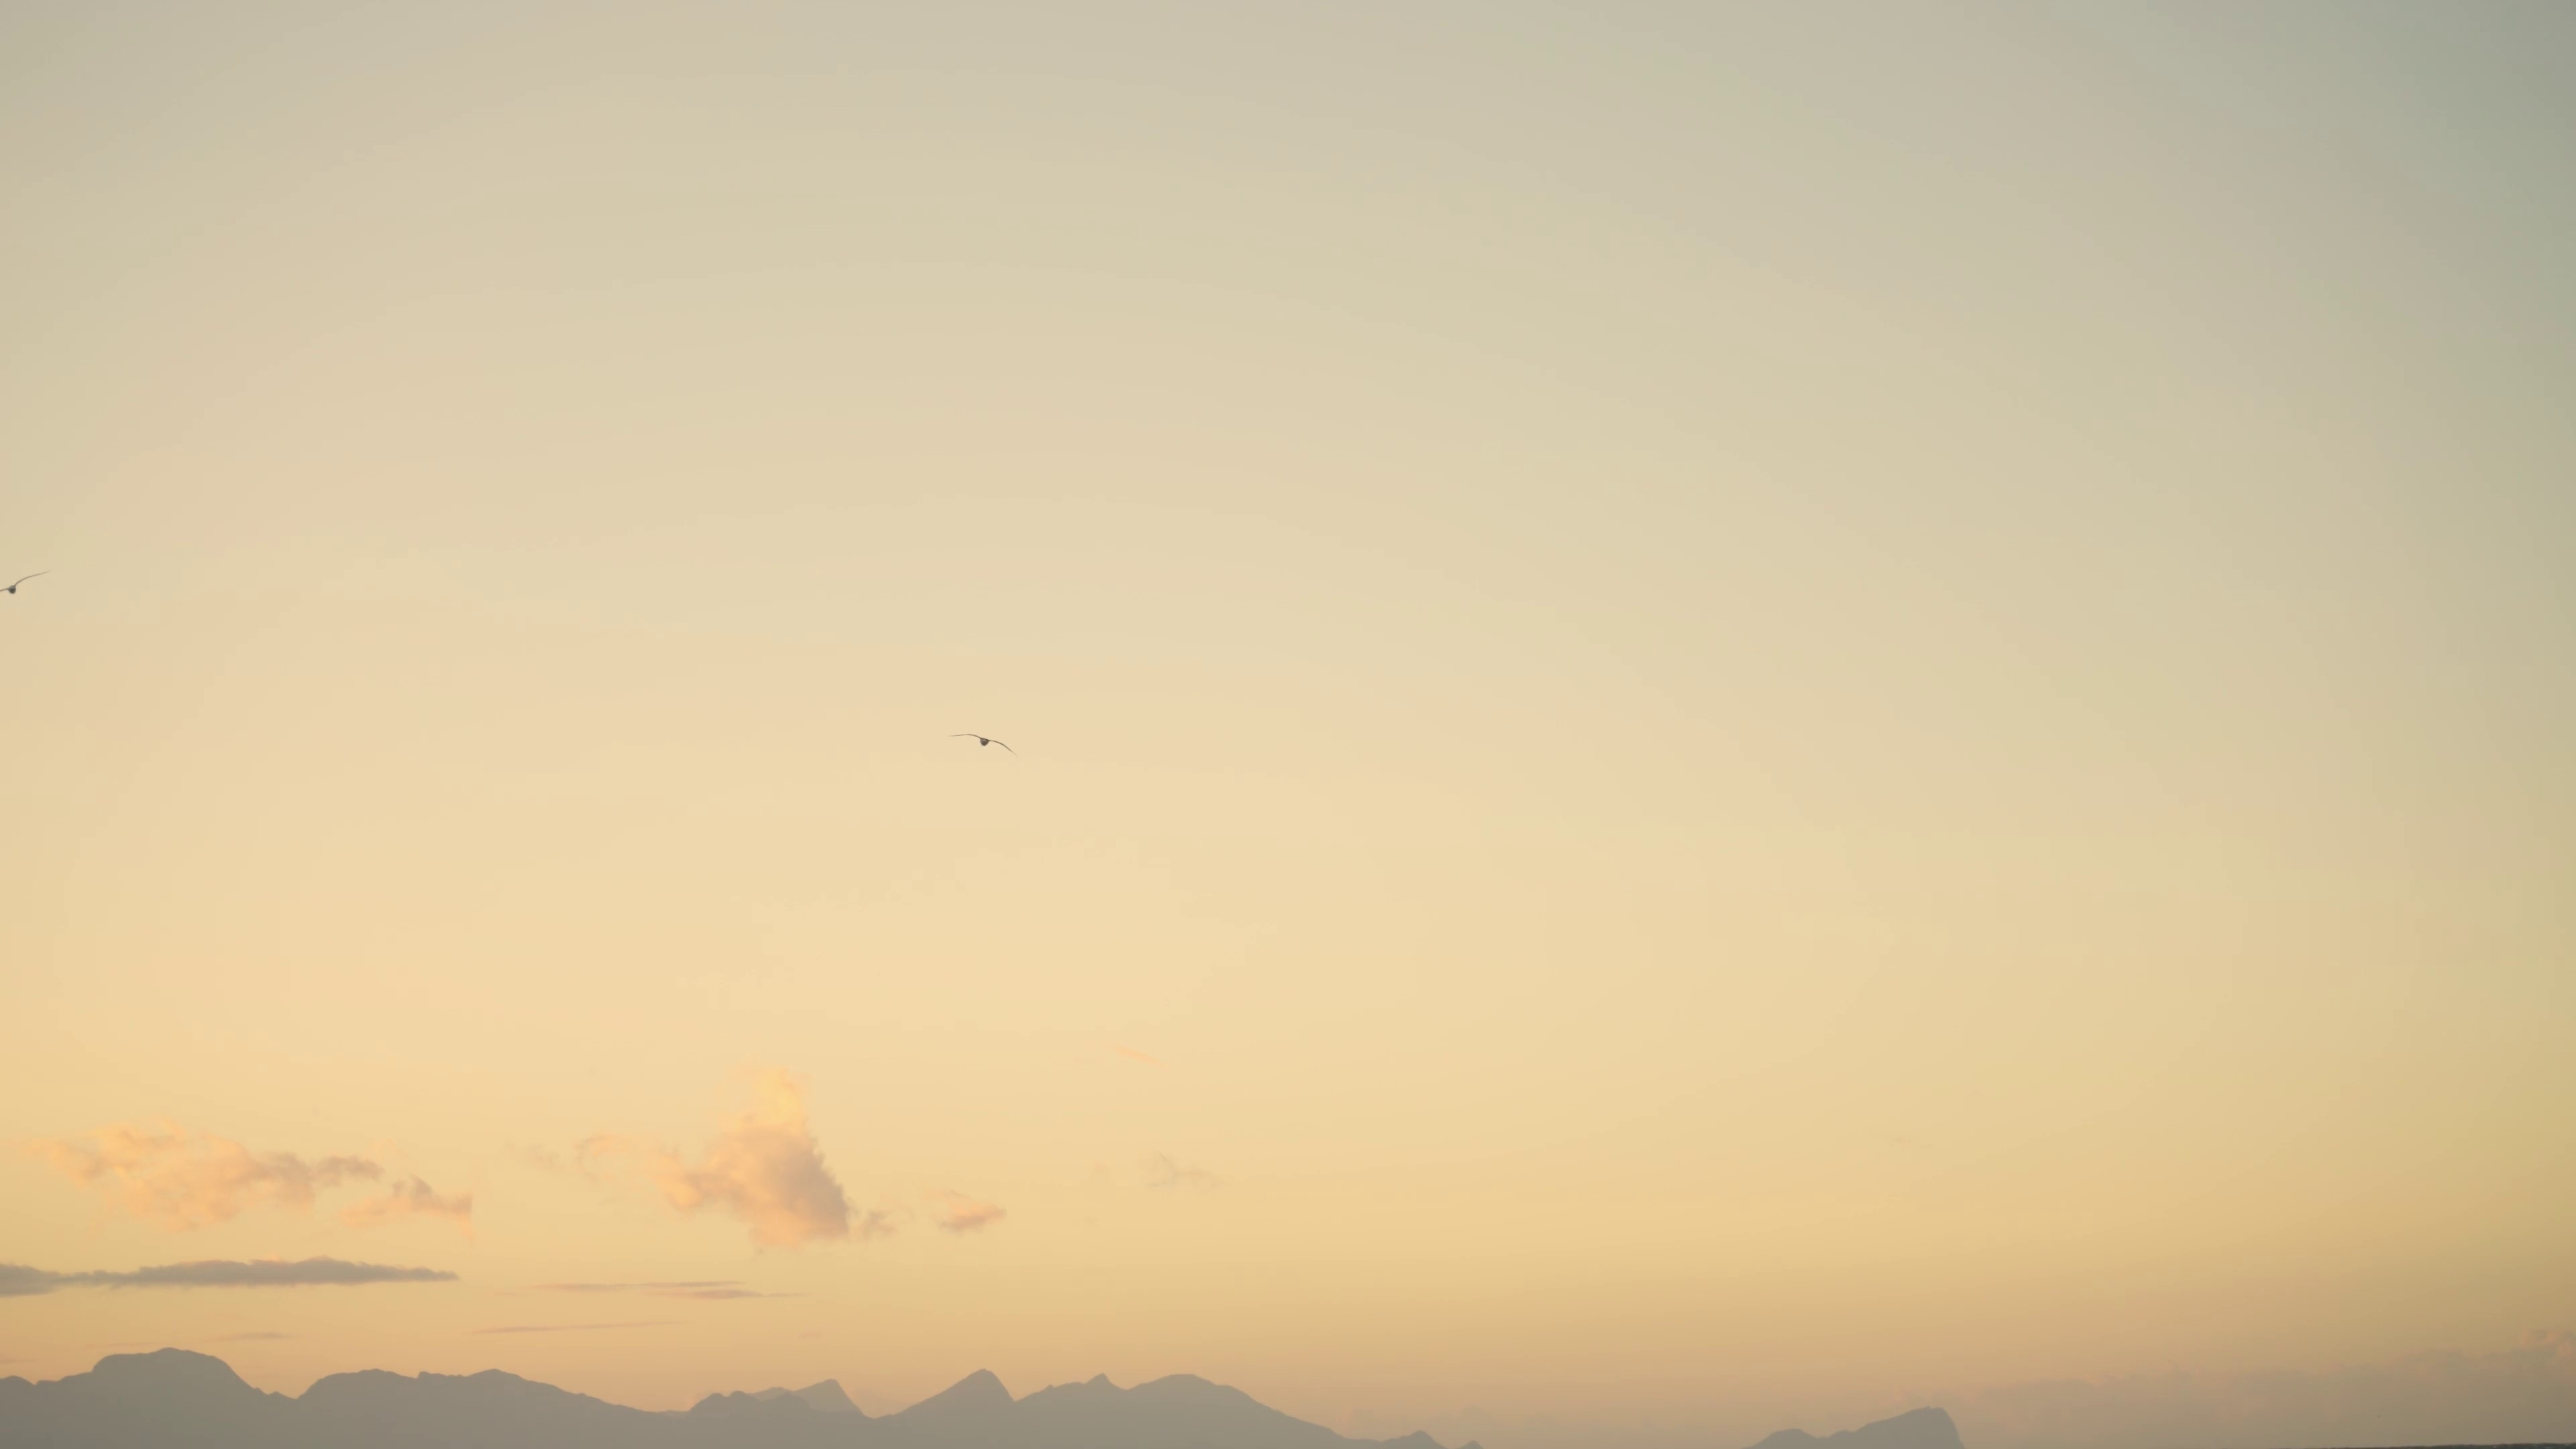bird: (952, 732, 1014, 757), (0, 571, 53, 598)
